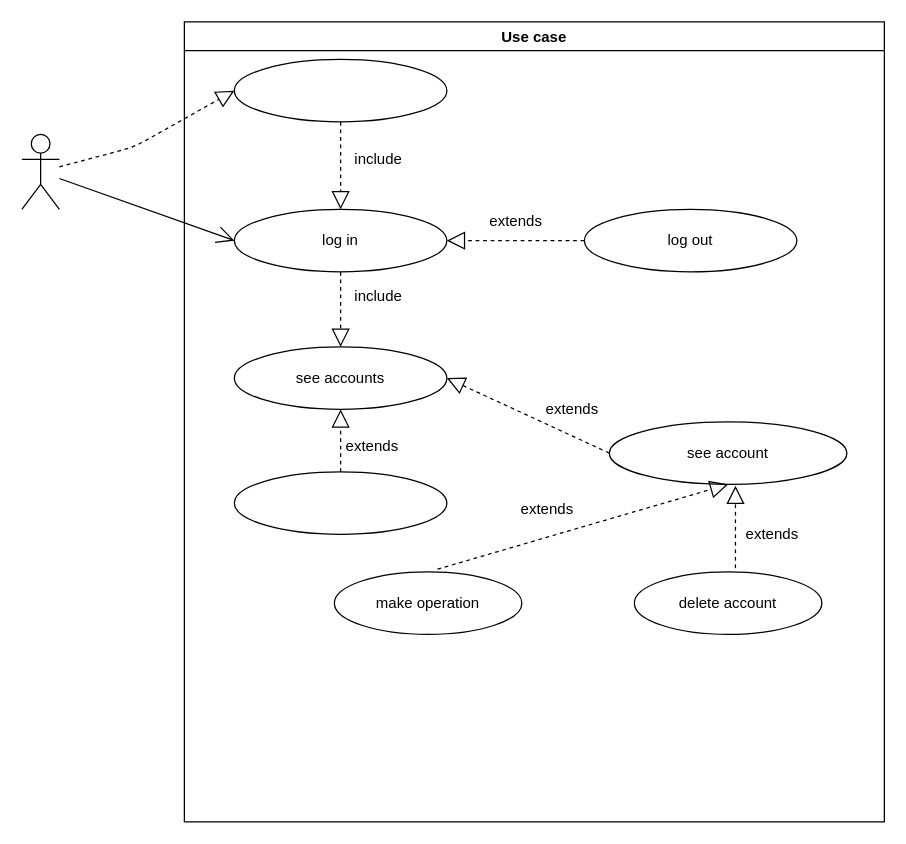
Some shapes in this 906 by 844 pixel diagram are drawn without their labels. Each missing label, with the centre of its shape:
Actor: [40,171]
create account: [340,502]
create user: [340,90]
